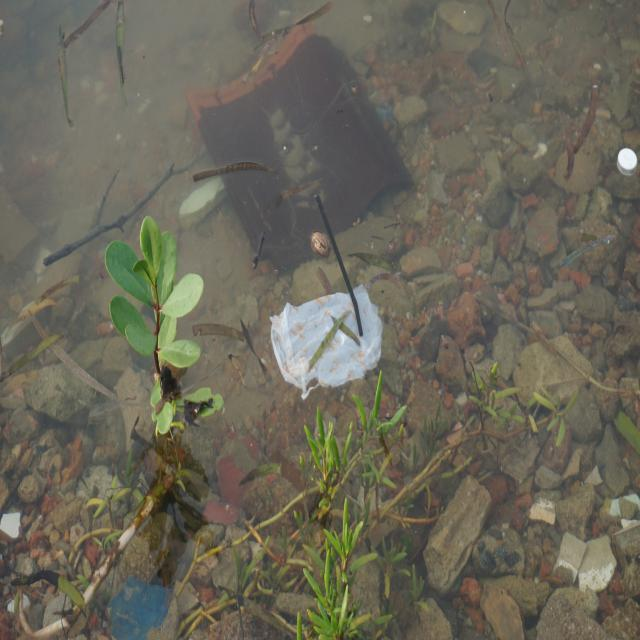Botol Plastik: (617, 142, 640, 182)
Kantong Plastik: (261, 286, 394, 395)
